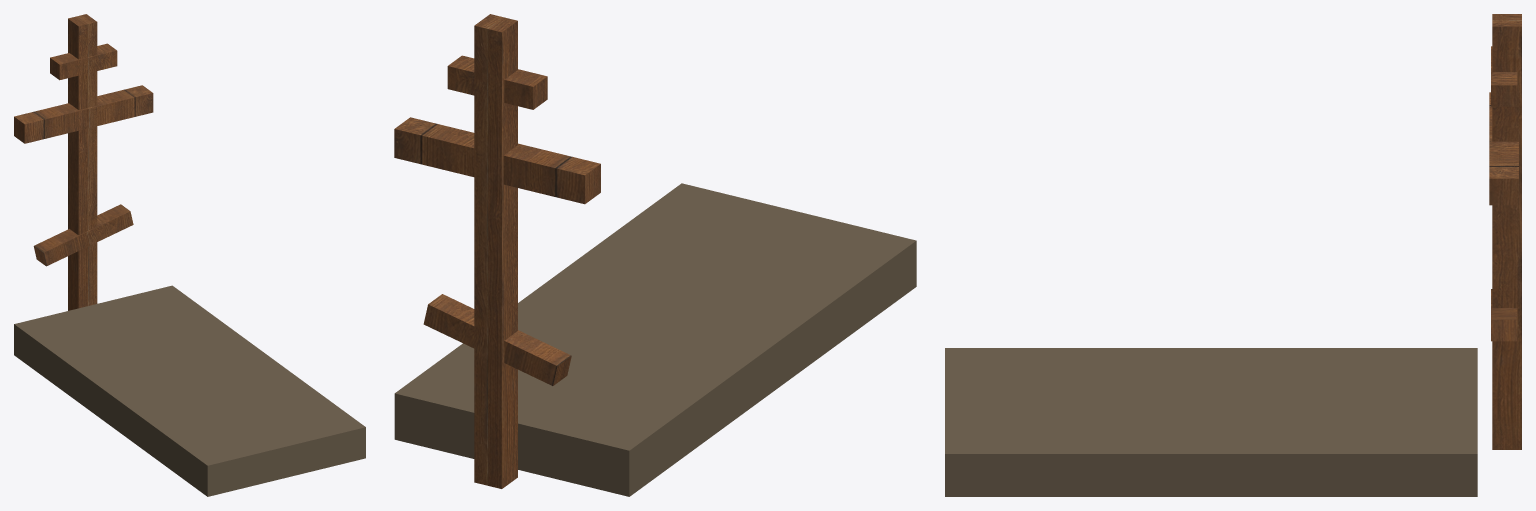
The model's file is grave_cross.glb.
The picture shows the model from 3 angles, left to right: view 1: azimuth 30°, elevation 25°; view 2: azimuth 150°, elevation 25°; view 3: azimuth 270°, elevation 25°; orthographic projection. The views are drawn at different scales.
Parts seen in each view (by area): view 1: grave_cross; view 2: grave_cross; view 3: grave_cross.
Part boxes in pixels (x1,y1,x2,y2): grave_cross: (14, 14, 365, 496); grave_cross: (394, 14, 916, 496); grave_cross: (945, 14, 1521, 496).
Size of the model in its own units: 0.85 by 1.58 by 1.95.
2 materials, 1 textured.
